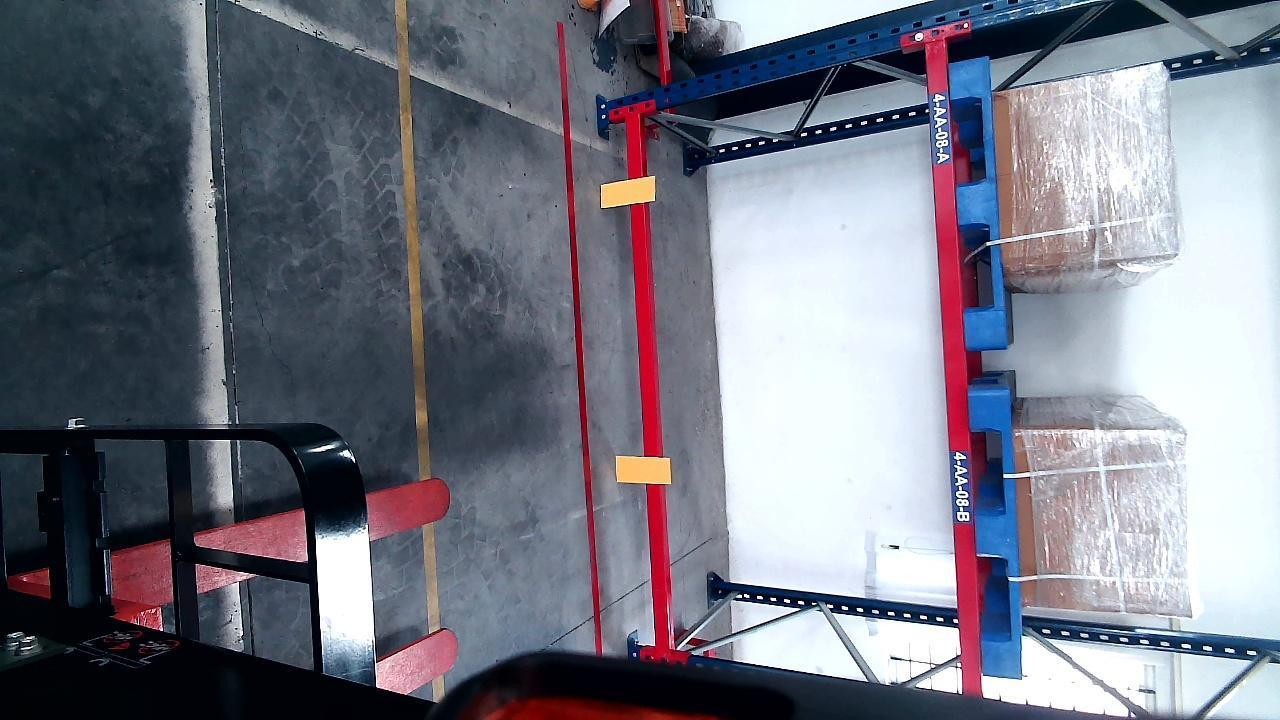h_rack: (926, 35, 981, 703), (627, 111, 674, 653)
orange_strip: (600, 176, 656, 206), (617, 455, 671, 483)
small_pallet: (968, 389, 1022, 667), (951, 59, 1003, 345)
yellow_line: (395, 1, 446, 703)
